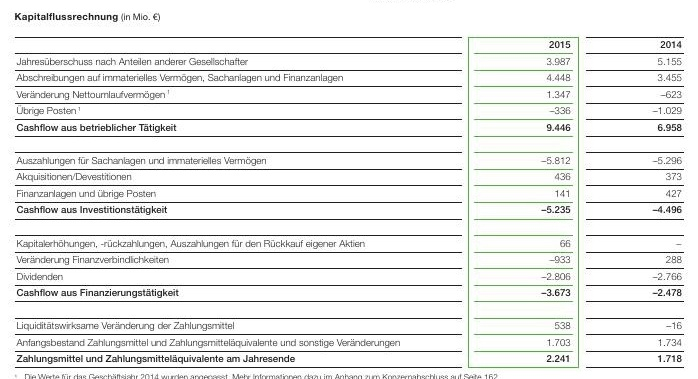table: (0, 0, 698, 379)
